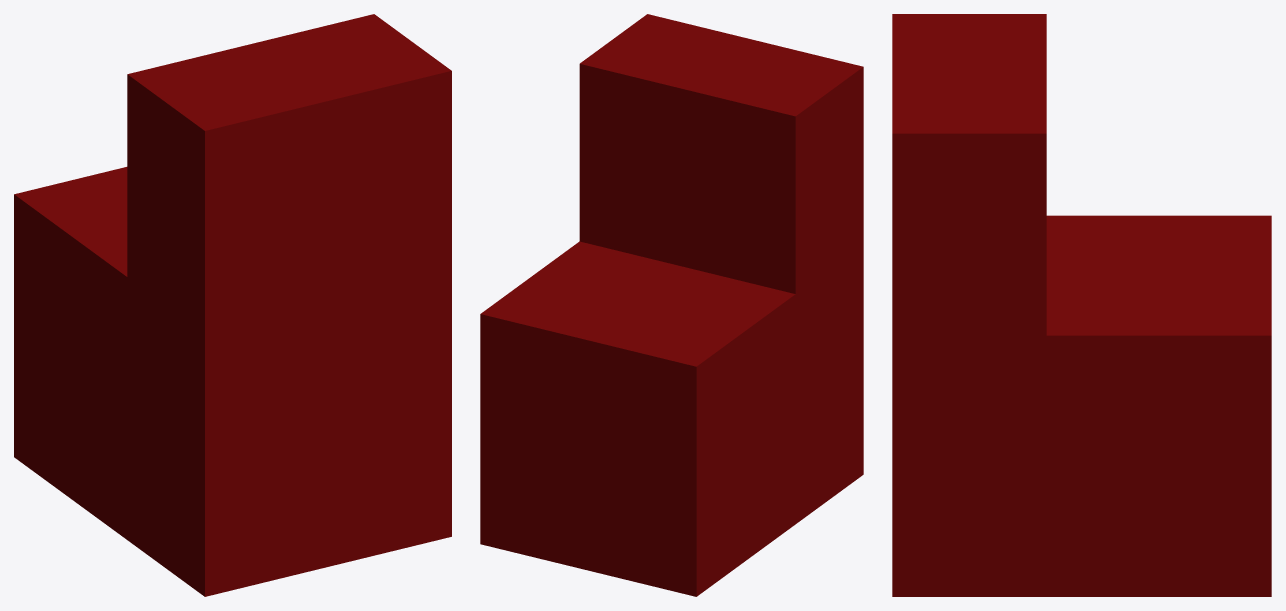
File: toilet.fbx
3 renders of one model, left to right at view 1: azimuth 30°, elevation 25°; view 2: azimuth 150°, elevation 25°; view 3: azimuth 270°, elevation 25°, orthographic. The views are drawn at different scales.
Visible parts, largest first — view 1: toilet_Col01, toilet_Col02; view 2: toilet_Col02, toilet_Col01; view 3: toilet_Col01, toilet_Col02.
Part boxes in pixels (x1,y1,x2,y2): toilet_Col01: (127, 14, 451, 596); toilet_Col02: (14, 167, 128, 540); toilet_Col02: (480, 241, 796, 596); toilet_Col01: (579, 14, 863, 523); toilet_Col01: (892, 14, 1046, 596); toilet_Col02: (1044, 215, 1271, 596).
Size of the model in its own units: 56 by 101 by 75.
